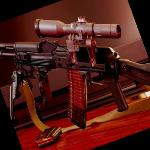Senapan: (0, 11, 150, 118)
